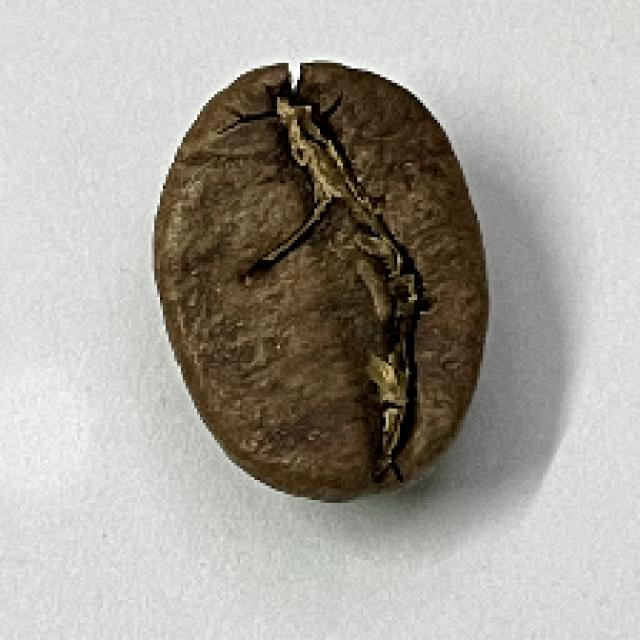bean: (146, 57, 491, 498)
